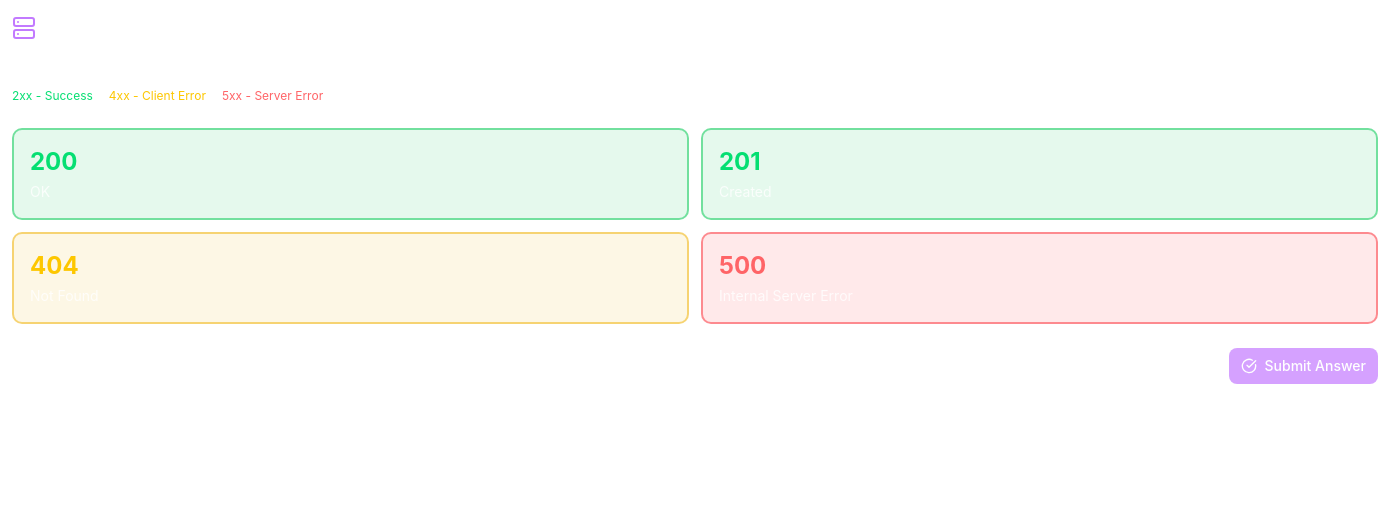
StatusCodeMatch › feedback › shows explanation after submission
What coordinates should you click on to do the following:
click the button "404 Not Found"
I would click on:
 (54, 266)
Its box is [12,232,689,324].
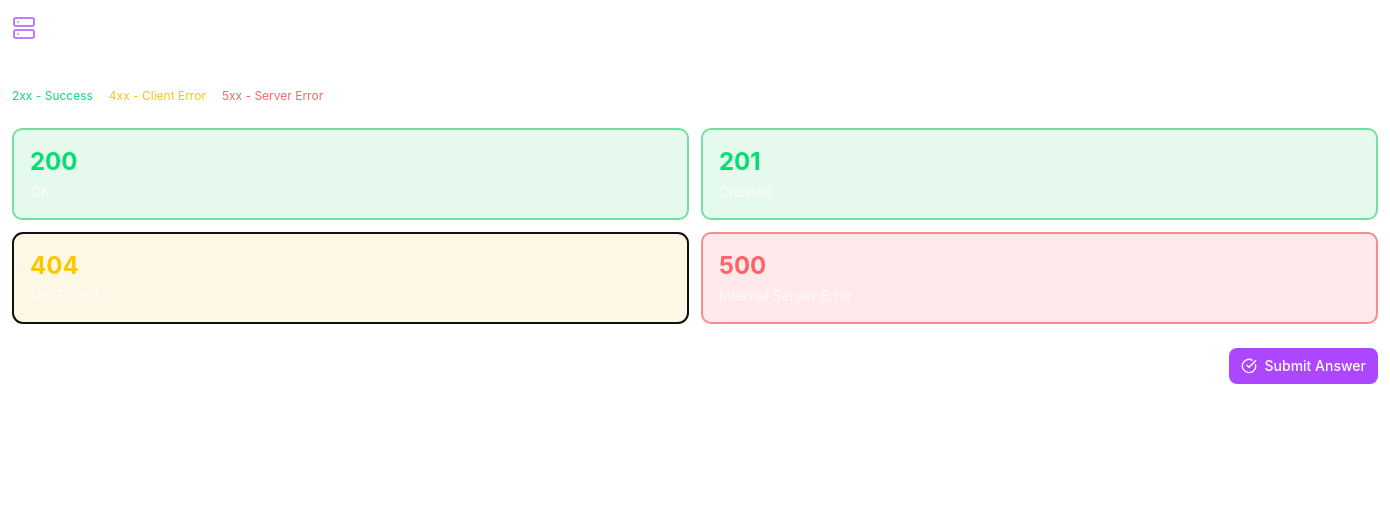
What coordinates should you click on to do the following:
click the button "Submit Answer"
I would click on:
 (1303, 366)
Its box is [1228,348,1378,384].
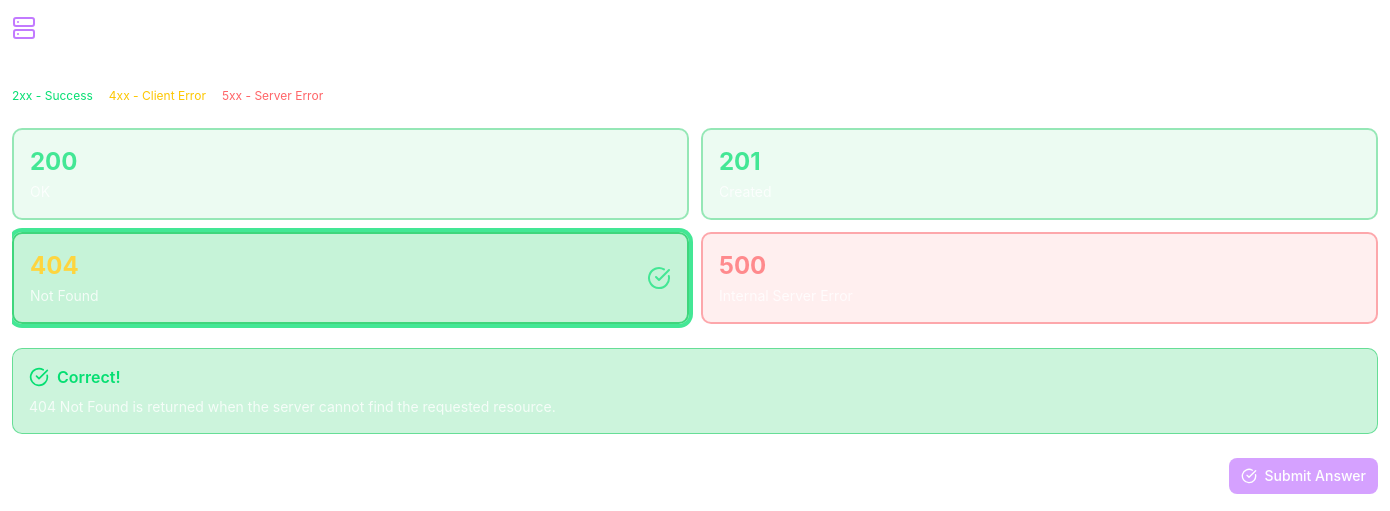
Expected: the text "404 Not Found is returned when the server cannot find the requested resource." is shown, [29,398,556,415]
